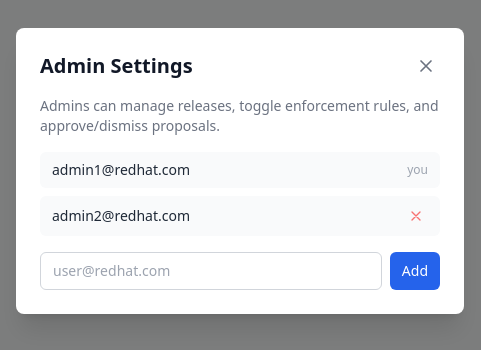
Test: AdminSettingsModal › shows validation error for empty email
Click the button with test id "add-admin-btn" at (415, 271), box [390, 252, 440, 290]
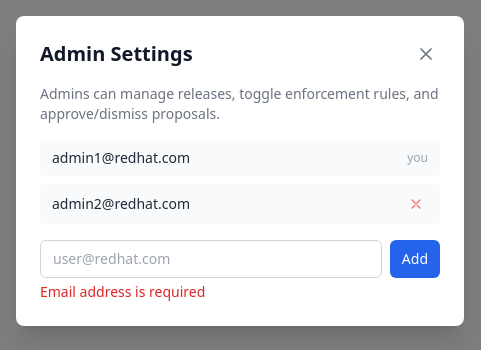
Result: the text "Email address is required" is shown at [40, 282, 205, 301]
